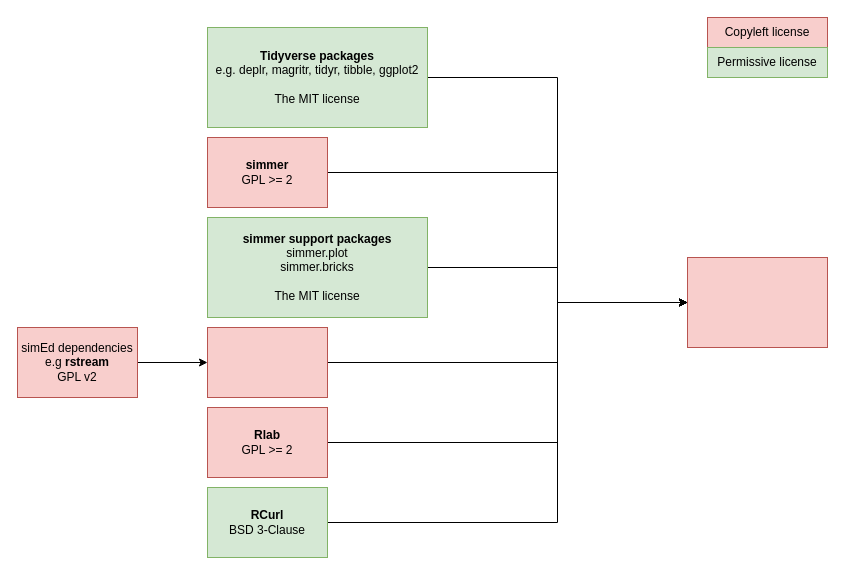
Some shapes in this 845 by 575 pixel diagram are drawn without their labels. Here are the shapes that lost their labels. From the top down, the centre of each, then its label:
At [757,302]: "treat-simr LICENSE = GPL v3".
At [267,362]: "simEd GPL >= 2".
